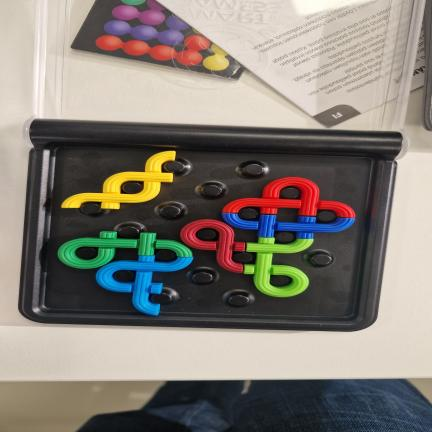A_Yellow: (62, 151, 175, 209)
B_SkyBlue: (96, 256, 192, 315)
C_DarkBlue: (222, 213, 354, 239)
D_Green: (58, 232, 192, 268)
E_Red: (223, 178, 355, 218)
J_DarkRed: (181, 220, 245, 272)
K_YellowGreen: (244, 238, 313, 297)
board: (19, 119, 402, 331)
hinge: (16, 117, 419, 159)
pin: (121, 181, 143, 194), (76, 247, 98, 259), (270, 275, 292, 287), (113, 270, 135, 282), (164, 161, 185, 173), (279, 187, 300, 199), (80, 202, 101, 214), (160, 205, 181, 217), (118, 226, 139, 238), (192, 272, 213, 284), (228, 295, 249, 307), (243, 164, 263, 176), (202, 185, 222, 197), (156, 249, 176, 261), (196, 229, 217, 240), (232, 252, 253, 263), (311, 254, 332, 265), (239, 208, 258, 220), (275, 232, 295, 243), (151, 293, 171, 304), (317, 211, 336, 222)
